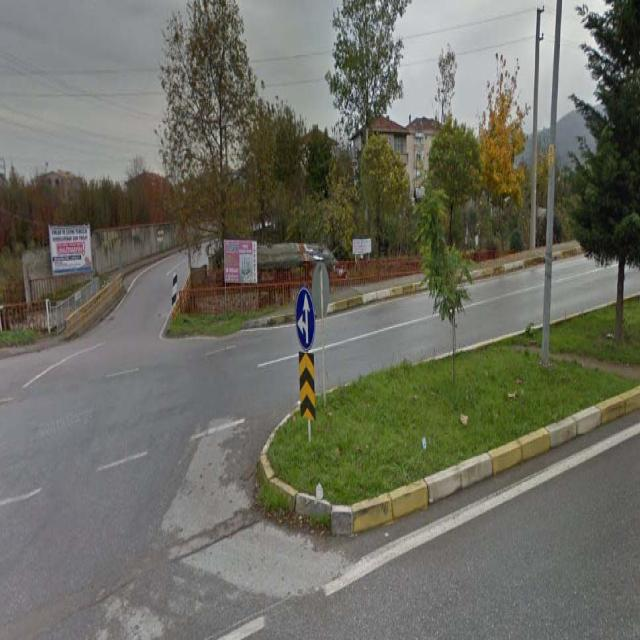ilerisol: (296, 287, 315, 353)
